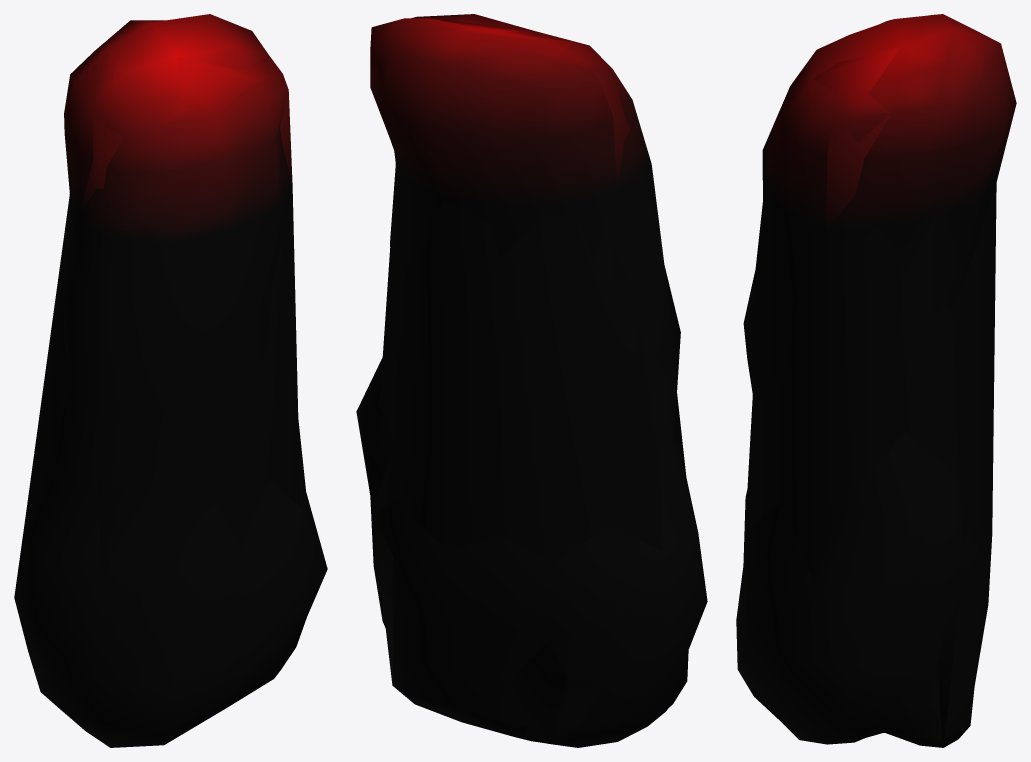
File: JD_Cave_A_Rock_03.fbx
3 renders of one model, left to right at view 1: azimuth 30°, elevation 25°; view 2: azimuth 150°, elevation 25°; view 3: azimuth 270°, elevation 25°, orthographic. The views are drawn at different scales.
Parts seen in each view (by area): view 1: JD_Cave_A_Rock_03, C_JD_Cave_A_Rock_03; view 2: JD_Cave_A_Rock_03, C_JD_Cave_A_Rock_03; view 3: JD_Cave_A_Rock_03, C_JD_Cave_A_Rock_03.
Boxes of the visible parts, x1=… form: JD_Cave_A_Rock_03: x1=14, y1=14, x2=327, y2=747; C_JD_Cave_A_Rock_03: x1=23, y1=55, x2=300, y2=568; JD_Cave_A_Rock_03: x1=356, y1=14, x2=707, y2=747; C_JD_Cave_A_Rock_03: x1=372, y1=20, x2=686, y2=743; JD_Cave_A_Rock_03: x1=736, y1=14, x2=1016, y2=747; C_JD_Cave_A_Rock_03: x1=745, y1=47, x2=996, y2=747.
Size of the model in its own units: 2.3 by 4.97 by 1.76.
